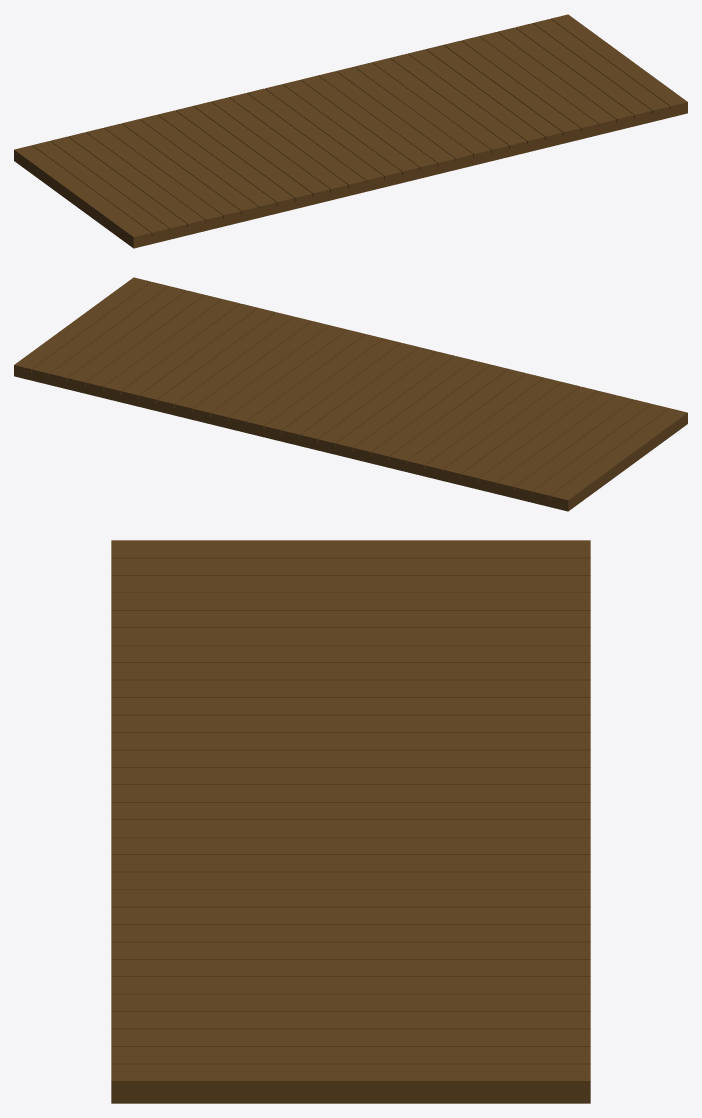
Rendered from woodfloor.fbx.
3 views of the same model, one above another, from view 1: azimuth 30°, elevation 25°; view 2: azimuth 150°, elevation 25°; view 3: azimuth 270°, elevation 25° (orthographic). The views are drawn at different scales.
Visible parts, largest first — view 1: polySurface25; view 2: polySurface25; view 3: polySurface25.
Part boxes in pixels (x1,y1,x2,y2): polySurface25: [14, 14, 687, 248]; polySurface25: [14, 277, 687, 511]; polySurface25: [111, 540, 590, 1103].
Bounding box in the file's own units: 138 × 2.69 × 51.51.
